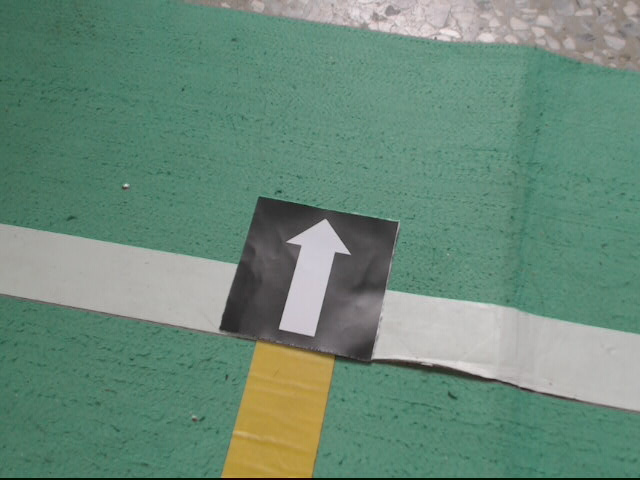straight: (219, 196, 399, 362)
